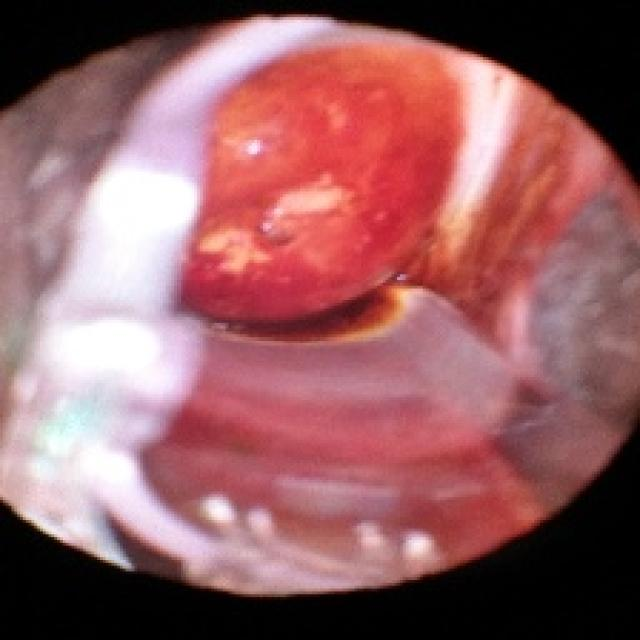type-3: (1, 53, 634, 566)
